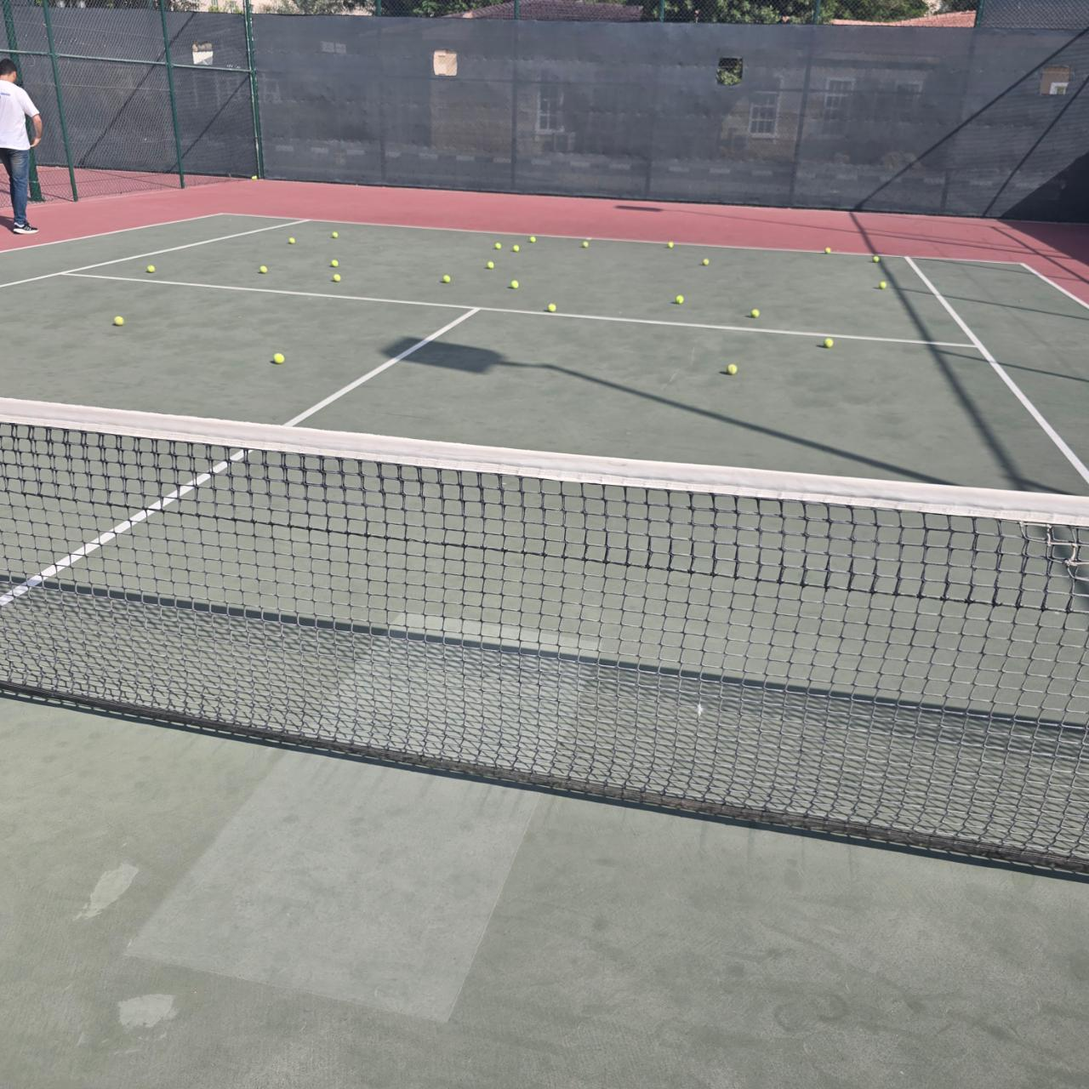tennis-ball: (271, 352, 285, 364), (727, 363, 738, 375), (113, 315, 124, 326), (823, 338, 834, 348), (750, 309, 760, 318), (547, 303, 556, 312), (675, 295, 684, 304), (510, 280, 519, 289), (333, 274, 341, 283), (259, 265, 267, 274), (487, 261, 495, 269), (702, 258, 710, 266), (872, 255, 880, 263), (879, 281, 887, 289), (331, 259, 339, 267), (147, 265, 155, 273), (443, 275, 450, 284), (495, 242, 502, 250), (332, 231, 339, 239), (582, 241, 589, 248), (667, 241, 674, 248), (288, 237, 295, 244), (513, 244, 519, 252), (530, 236, 536, 243), (825, 247, 831, 254), (251, 175, 257, 181)
